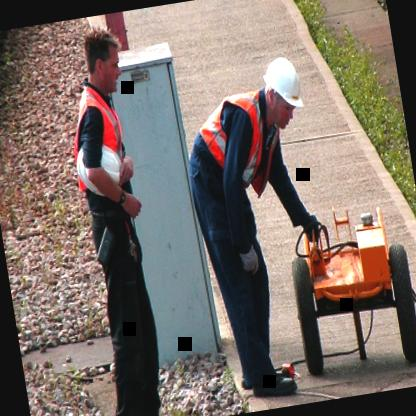head: (75, 20, 132, 98)
helmet: (252, 40, 312, 134)
